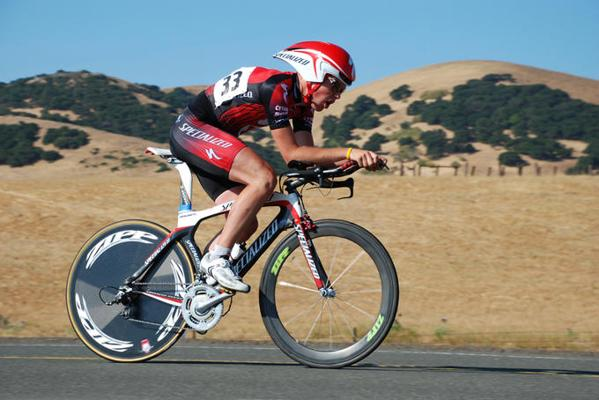person: (169, 40, 389, 293)
